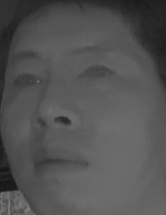eye: (75, 61, 117, 86), (10, 67, 43, 91)
mouth: (30, 145, 87, 180)
